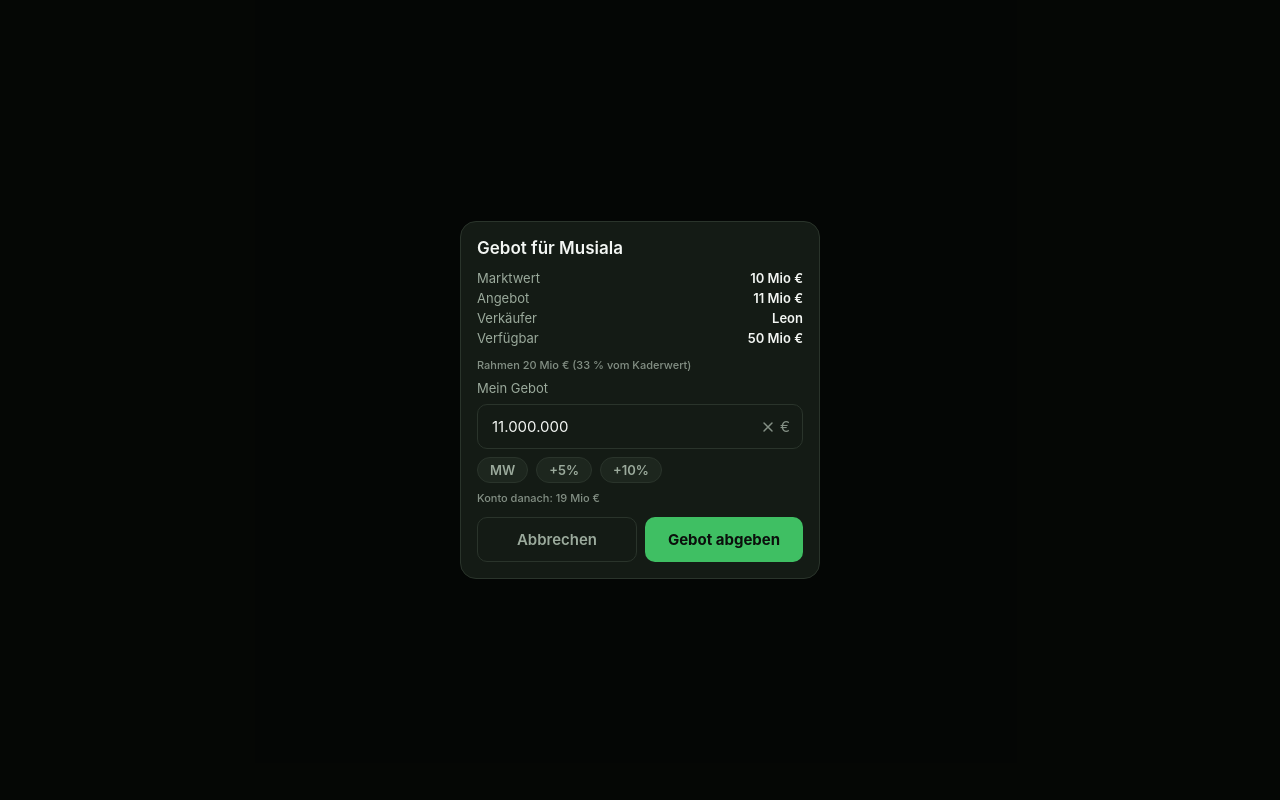
Test: OfferModal › übernimmt die Schnellwahl MW
The width and height of the screenshot is (1280, 800).
What coordinates should you click on to do the following:
click the button "MW"
I would click on:
 (503, 470)
Its box is [477,457,528,483].
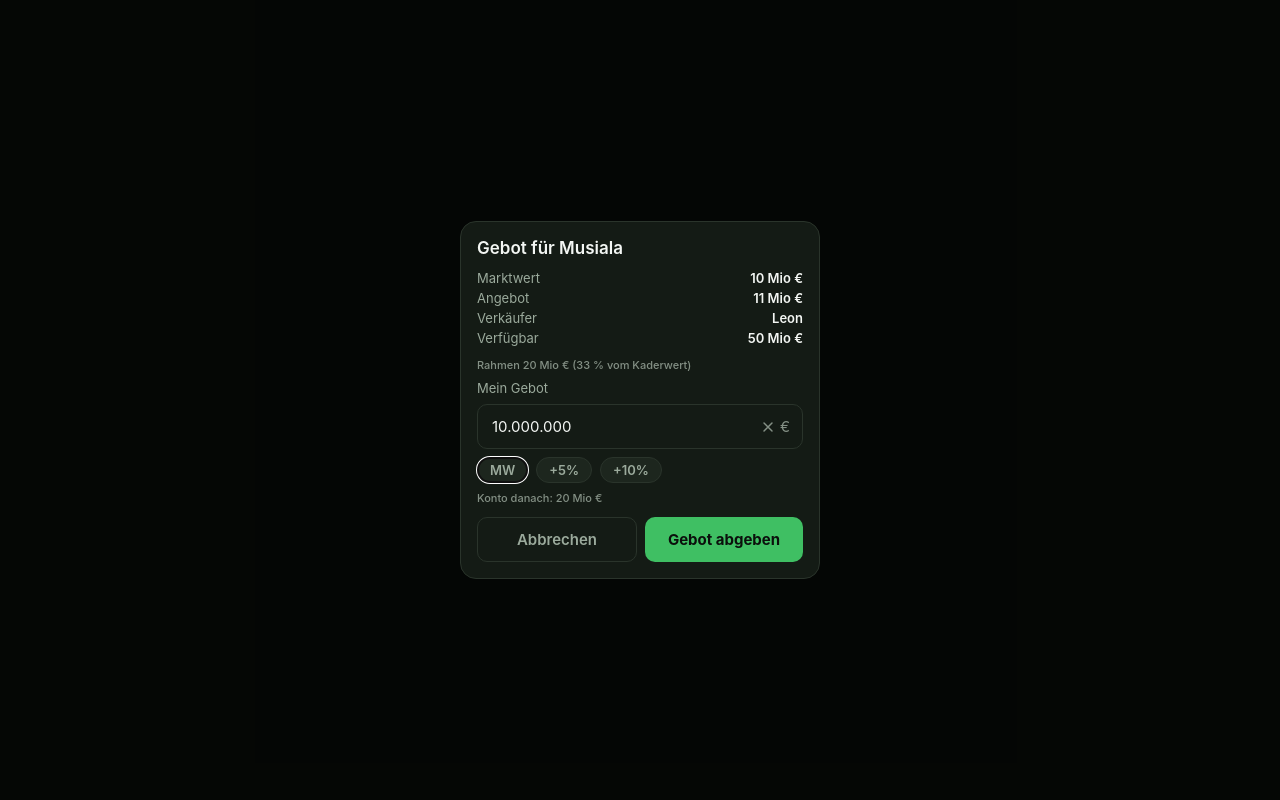
Expected: the field labelled "Mein Gebot" holds "10.000.000", [490,405,752,448]
